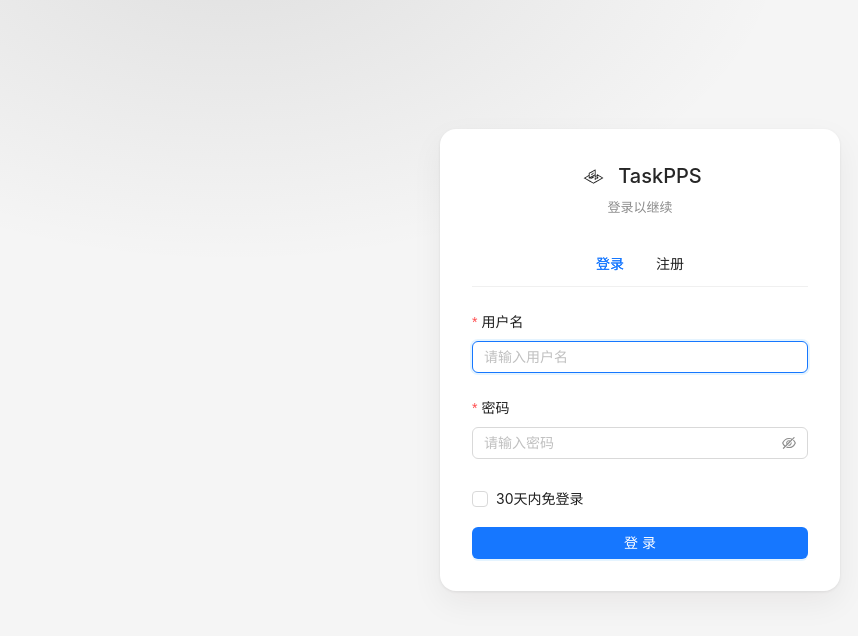
it: LoginPage (issue #204) › TC-W171: Tab 切换登录/注册
This screenshot has width=858, height=636.
Expected: the password field with placeholder "请输入密码" is shown, [484,432,778,454]
Expected: the field with placeholder "显示给他人的名字" is not shown
点击「注册」tab（Tab label 文本可被 getByText 定位）
Click the tab "注册" at (670, 264), box [656,253,684,275]
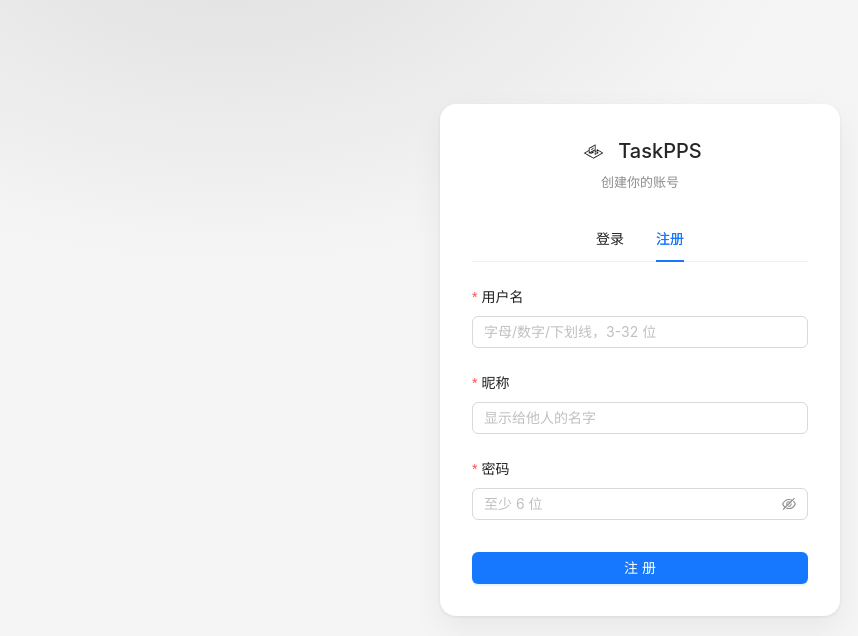
Now the field with placeholder "显示给他人的名字" is shown, box [472,402,808,434]
